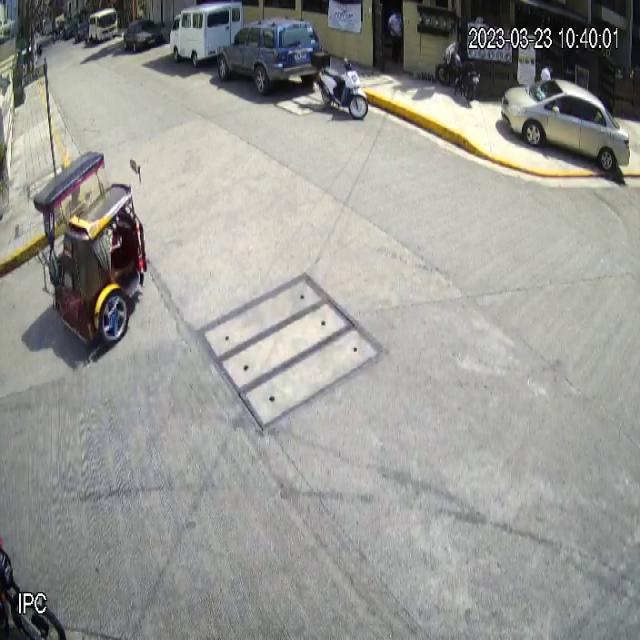Car: (500, 76, 632, 175), (216, 17, 322, 98)
Motorcycle: (311, 49, 371, 125)
Tricycle: (32, 139, 147, 353)
Van: (169, 2, 244, 68)
